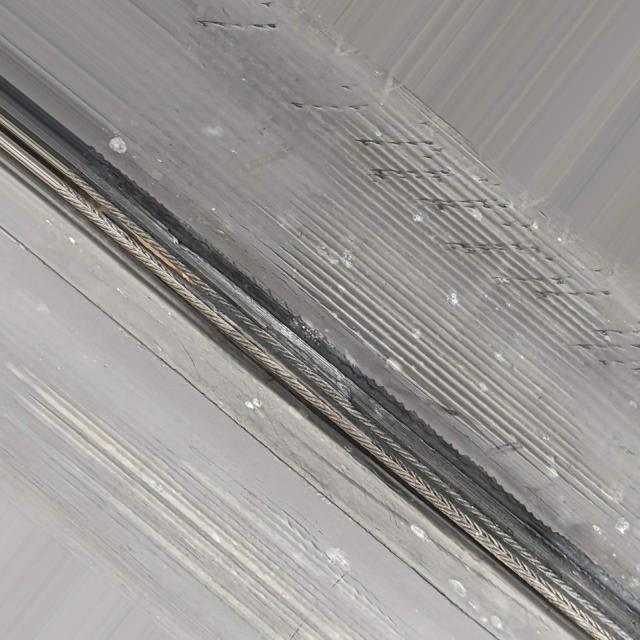Tear: (0, 86, 640, 640)
Wear: (188, 0, 640, 413)
